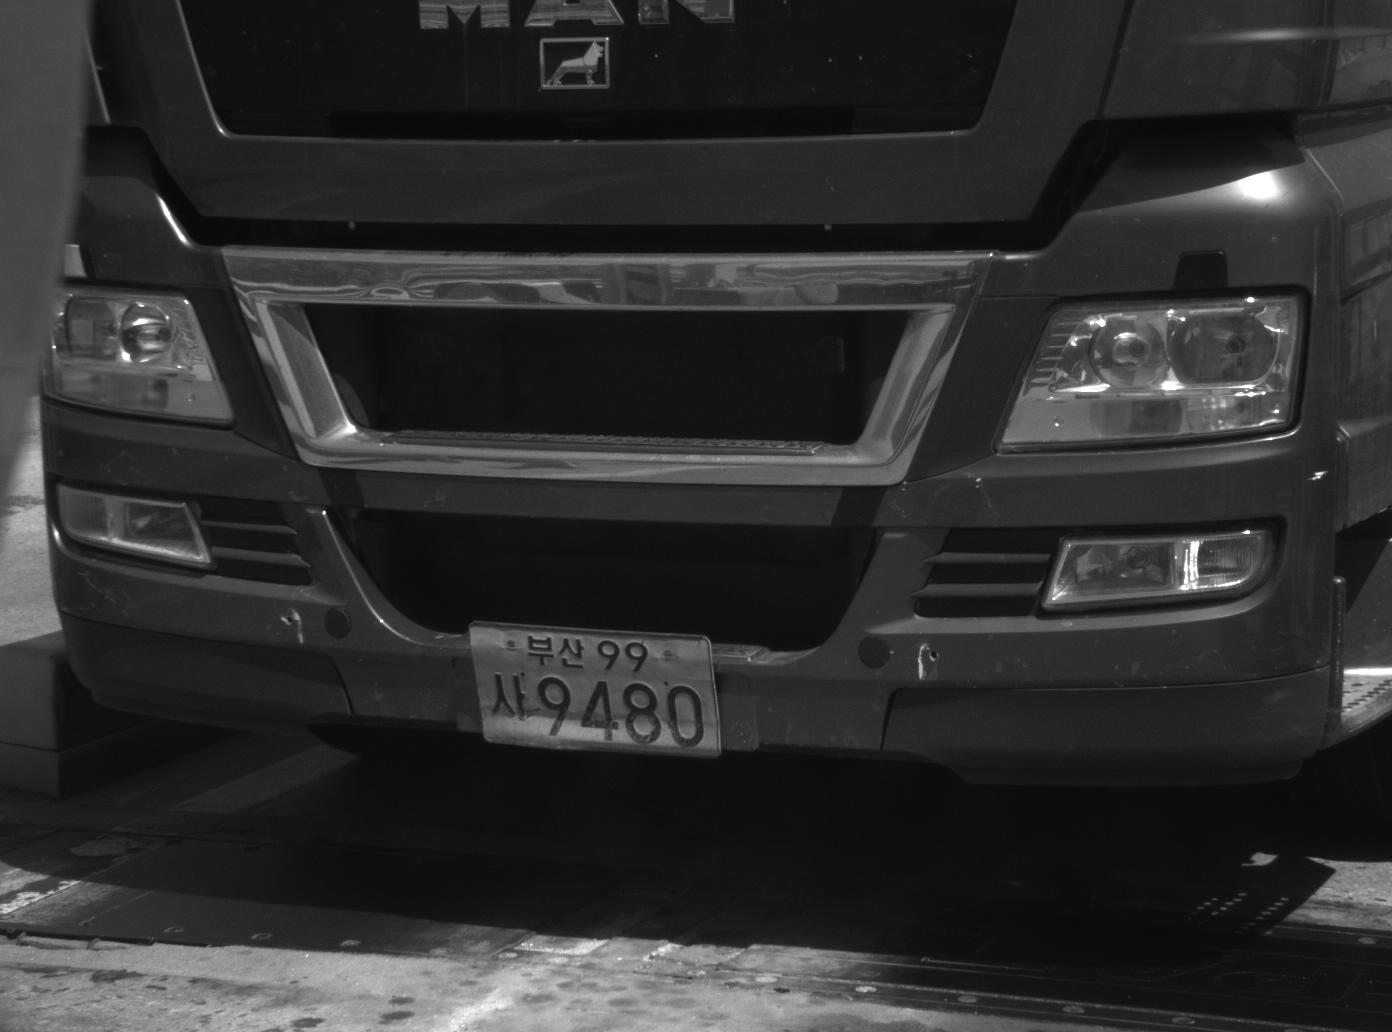car: (31, 1, 1389, 829)
plate: (467, 619, 726, 761)
